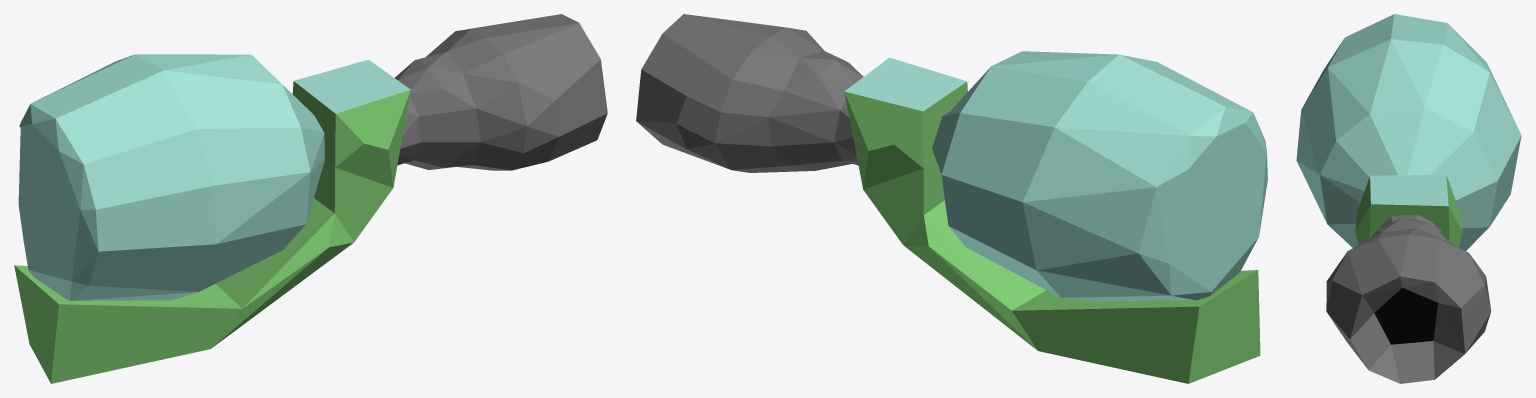
Rendered from Dmuchawa.fbx.
The picture shows the model from 3 angles, left to right: view 1: azimuth 30°, elevation 25°; view 2: azimuth 150°, elevation 25°; view 3: azimuth 270°, elevation 25°; orthographic projection. The views are drawn at different scales.
Visible parts, largest first — view 1: Dmuchawa.001; view 2: Dmuchawa.001; view 3: Dmuchawa.001.
Part boxes in pixels (left/top/right/bottom): Dmuchawa.001: left=14, top=14, right=607, bottom=383; Dmuchawa.001: left=636, top=14, right=1267, bottom=383; Dmuchawa.001: left=1296, top=14, right=1521, bottom=383.
Size of the model in its own units: 824 by 401 by 321.
